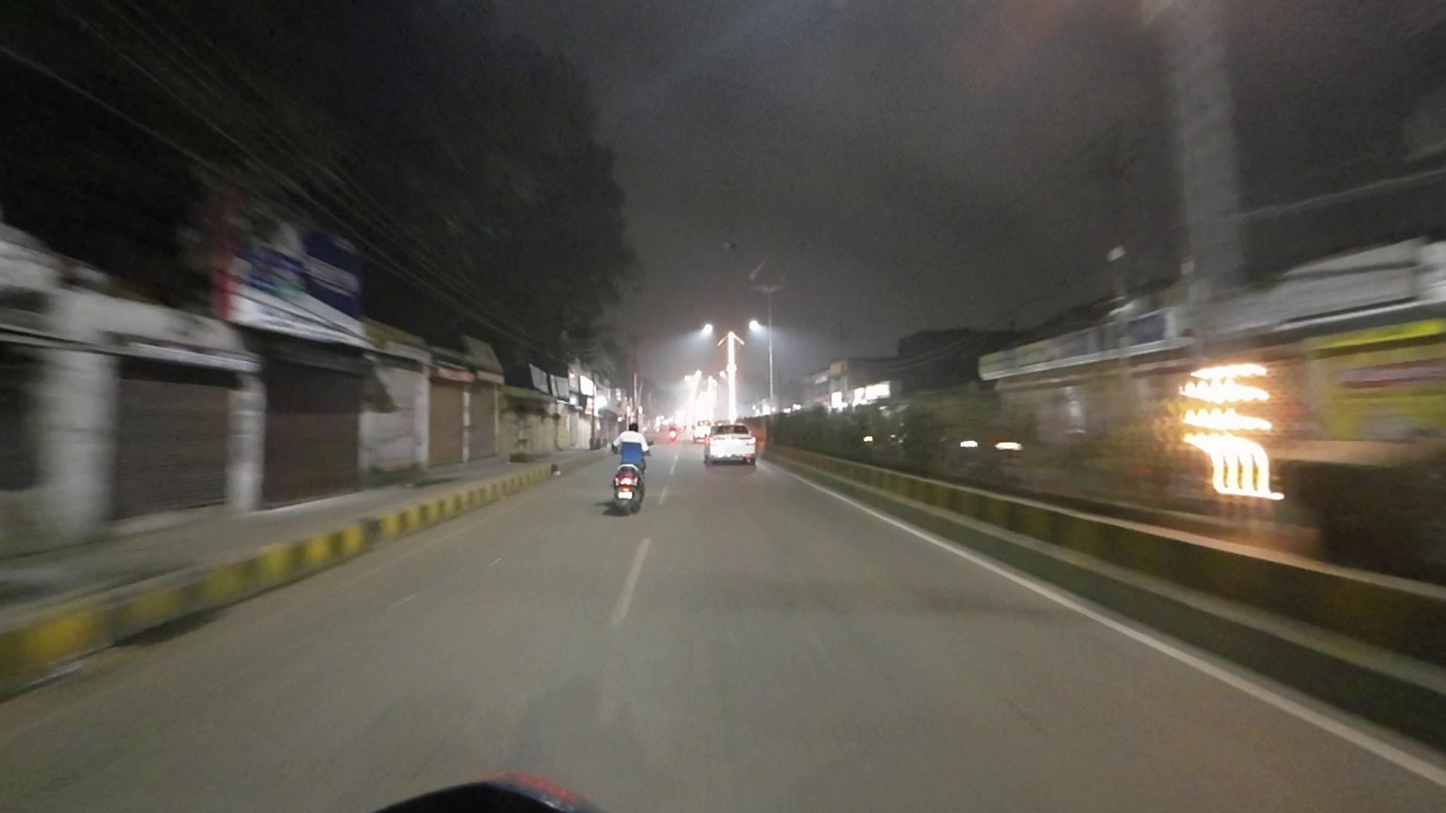streetlight: (721, 238, 764, 258), (774, 240, 813, 256)
